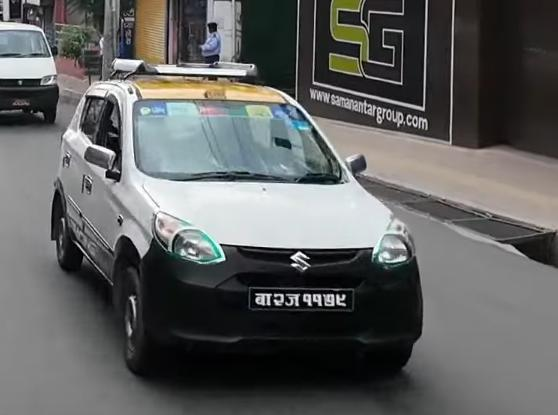taxi: (44, 49, 426, 384)
van: (0, 19, 59, 125)
